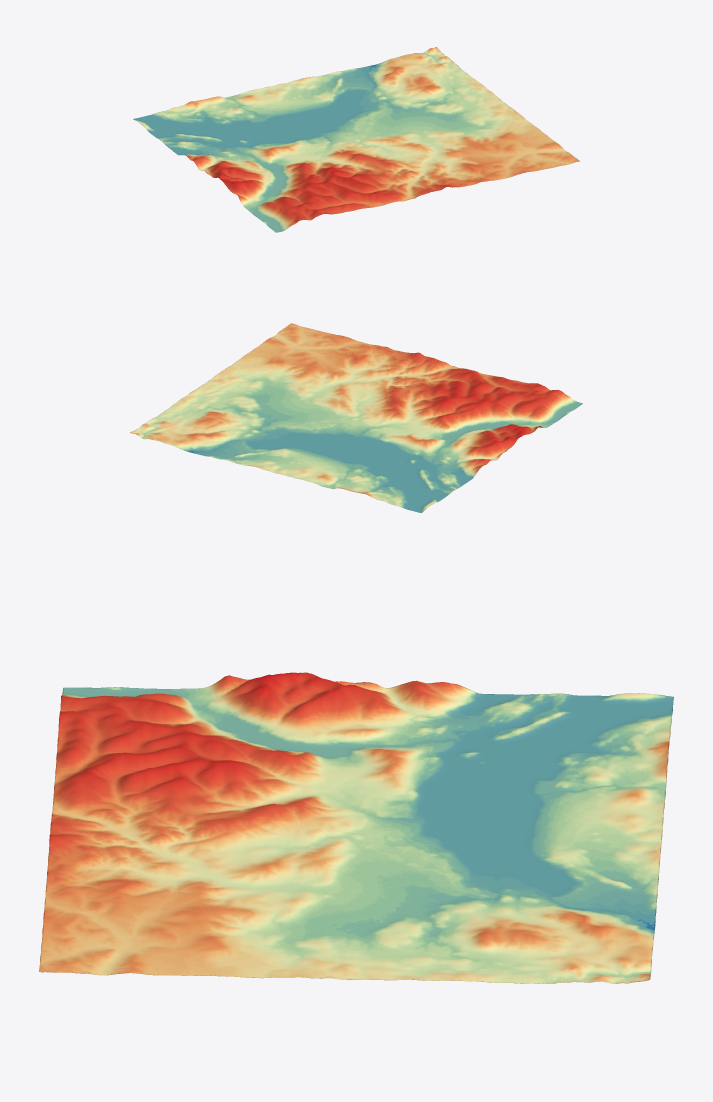
The model's file is 4172-23-SRTM-DEM.gltf.
The picture shows the model from 3 angles, top to bottom: view 1: azimuth 30°, elevation 25°; view 2: azimuth 150°, elevation 25°; view 3: azimuth 270°, elevation 25°; orthographic projection. The views are drawn at different scales.
Parts seen in each view (by area): view 1: Bariloche - SRTM - Terreno; view 2: Bariloche - SRTM - Terreno; view 3: Bariloche - SRTM - Terreno.
Part boxes in pixels (x1,y1,x2,y2): Bariloche - SRTM - Terreno: [133, 47, 579, 232]; Bariloche - SRTM - Terreno: [130, 323, 582, 512]; Bariloche - SRTM - Terreno: [39, 672, 673, 983].
Bounding box in the file's own units: 100 × 2.07 × 55.62.
Materials: 1 (1 with a texture image).
